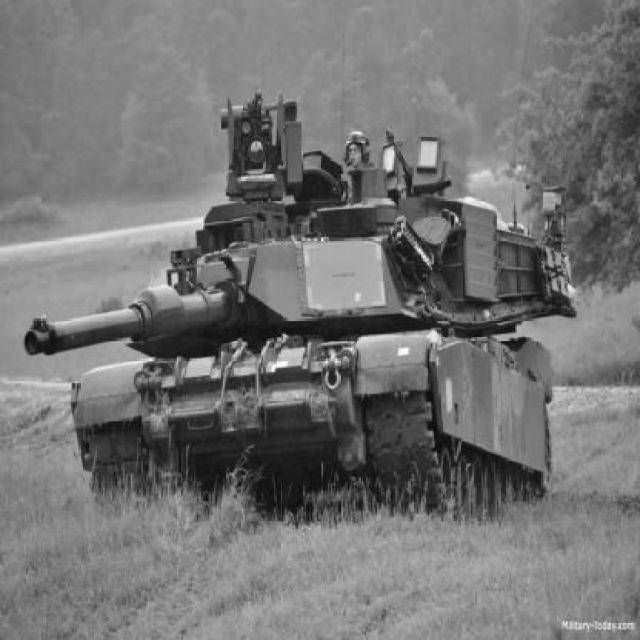Person: (341, 129, 378, 200)
Tank: (24, 84, 580, 527)
